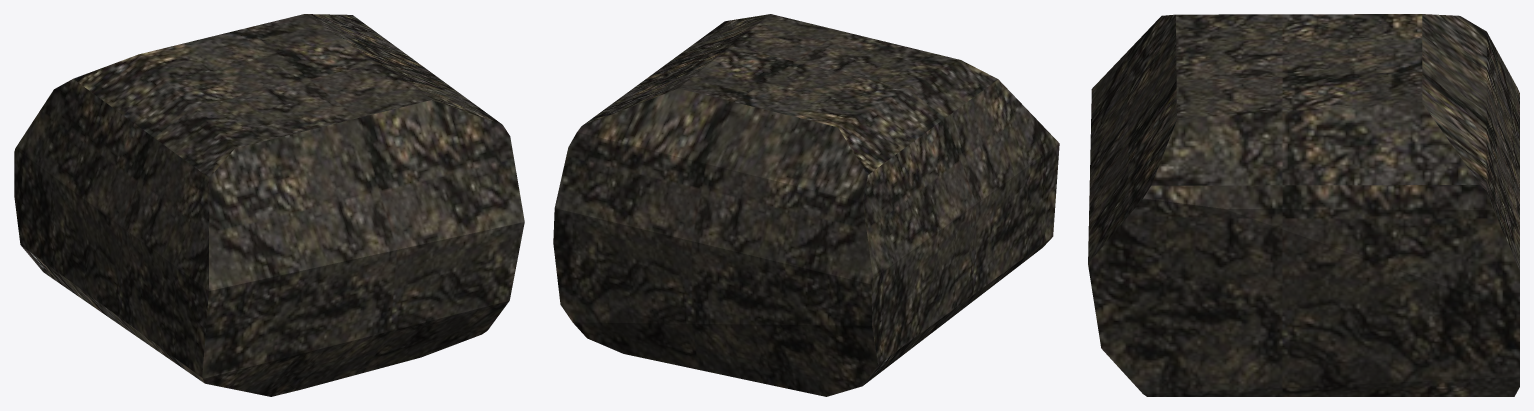
Rendered from rock2.fbx.
The picture shows the model from 3 angles, left to right: view 1: azimuth 30°, elevation 25°; view 2: azimuth 150°, elevation 25°; view 3: azimuth 270°, elevation 25°; orthographic projection. The views are drawn at different scales.
Parts seen in each view (by area): view 1: Object; view 2: Object; view 3: Object.
Part boxes in pixels (x1,y1,x2,y2): Object: (14,14,524,396); Object: (553,14,1059,396); Object: (1088,14,1519,396).
Bounding box in the file's own units: 1061 × 800 × 1091.
